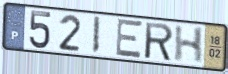2: (58, 13, 82, 54)
5: (27, 9, 53, 50)
E: (114, 18, 145, 60)
H: (173, 24, 206, 65)
I: (90, 15, 102, 56)
R: (144, 21, 175, 63)
